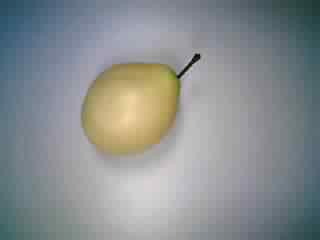pear: (75, 44, 209, 159)
